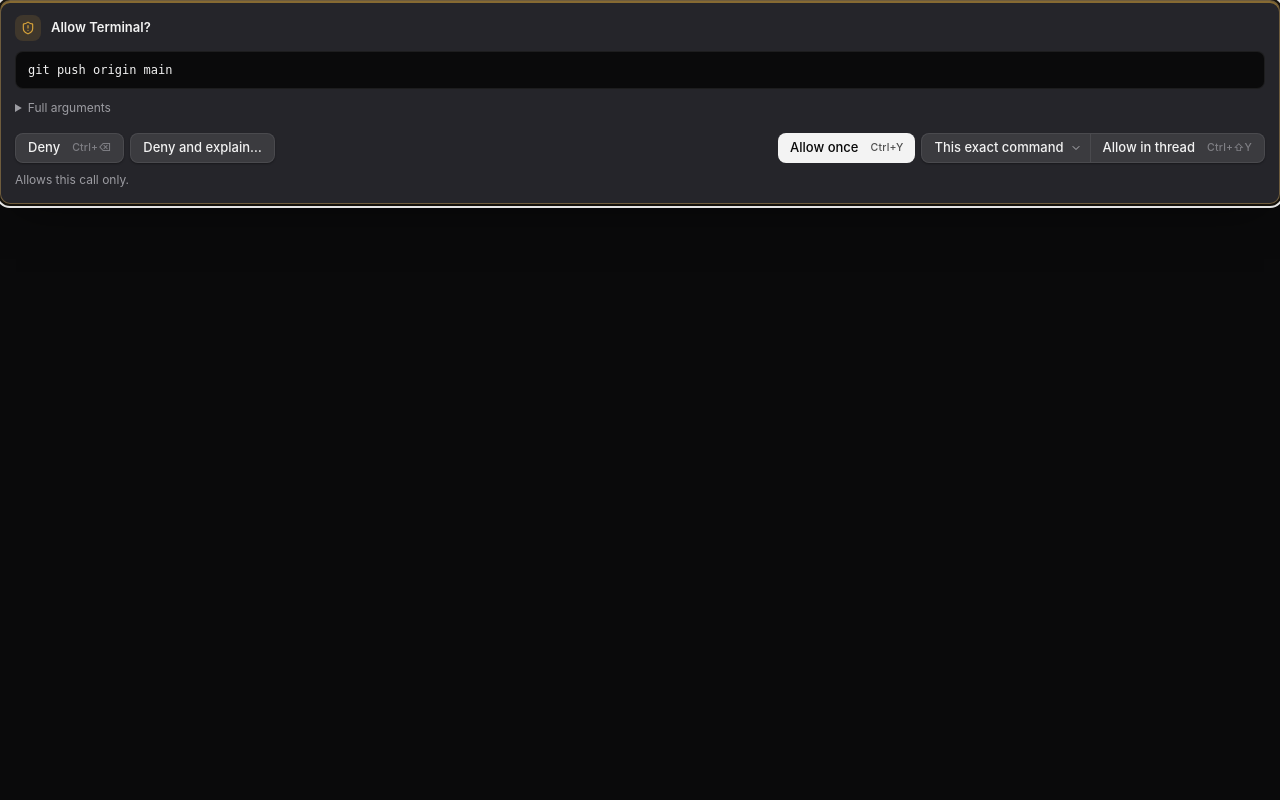
it: denial explanations › groups scoped thread choices into one picker and approves the scope it shows
Later steps or results of the test are not shown.
Click the button with aria-label "What to allow in this thread".
click(1006, 148)  # box [922, 134, 1090, 162]
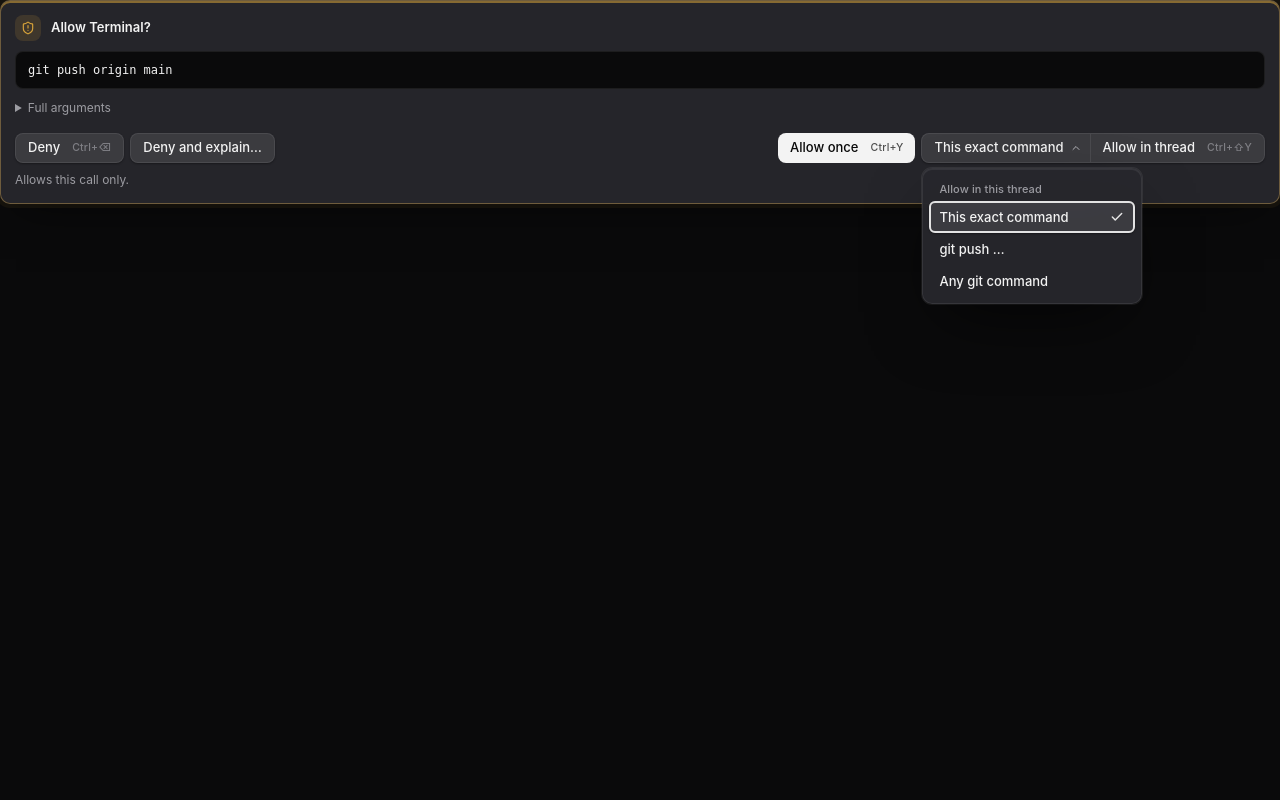
Click the option "Any git command".
click(1032, 281)  # box [930, 265, 1136, 297]
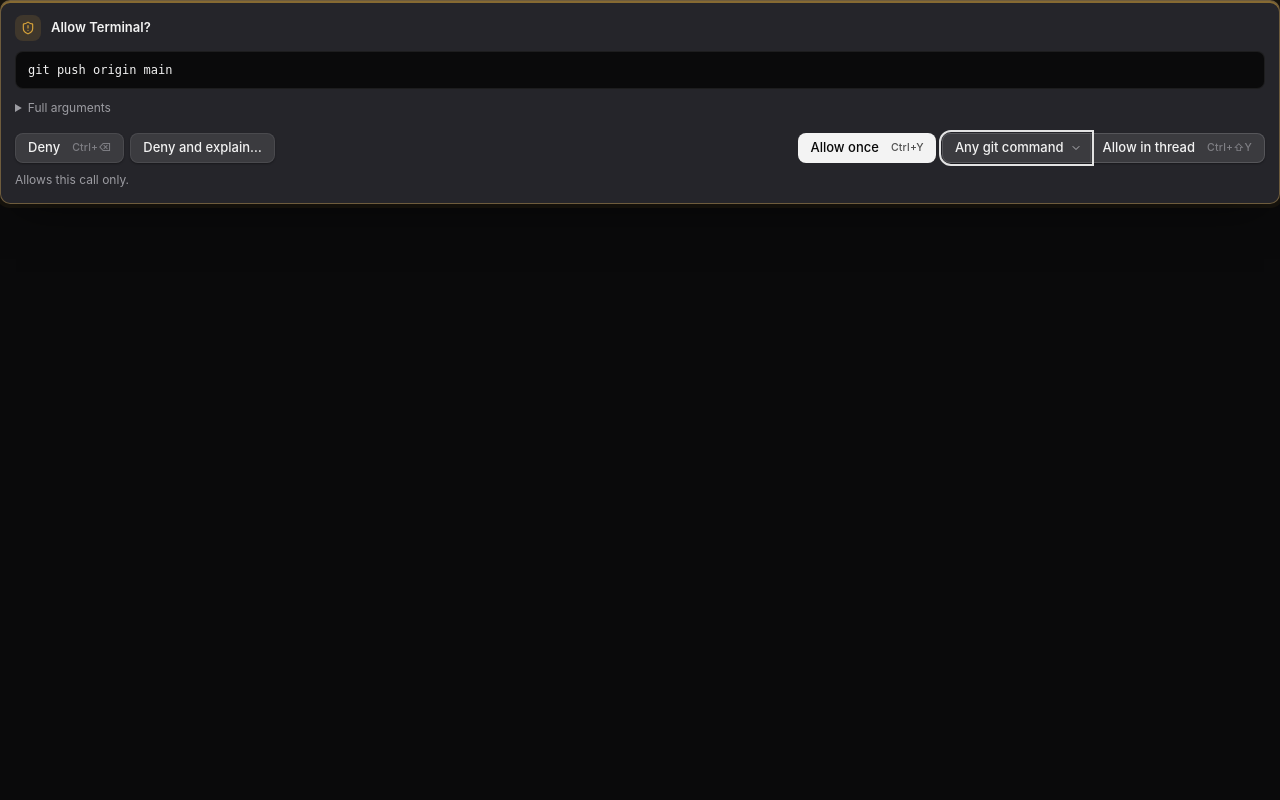
Expected: the button with aria-label "What to allow in this thread" reads "Any git command", [943, 134, 1090, 162]
